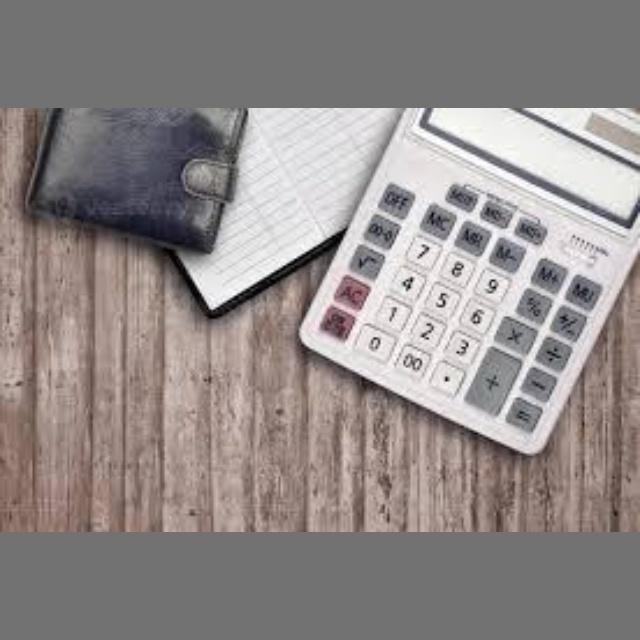Wallet: (23, 108, 253, 252)
